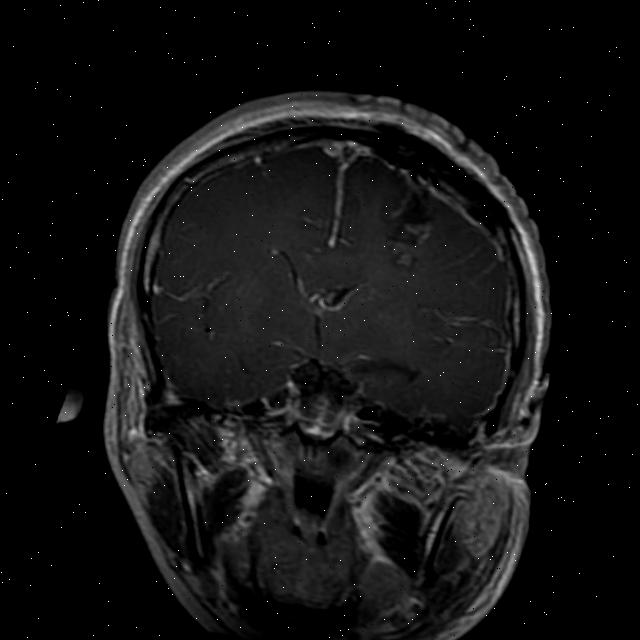Glioma: (374, 174, 441, 277)
